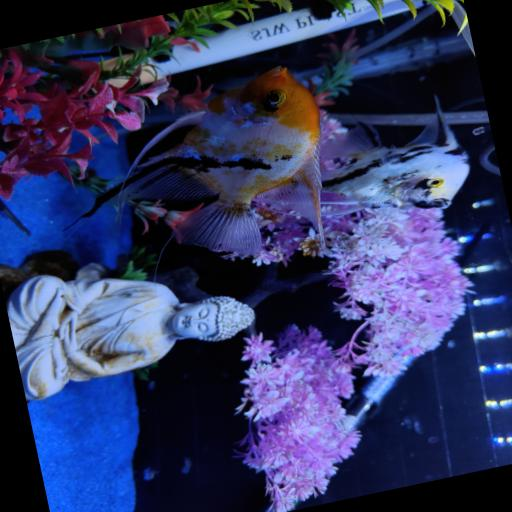Fish: (82, 67, 321, 255), (321, 102, 469, 214)
